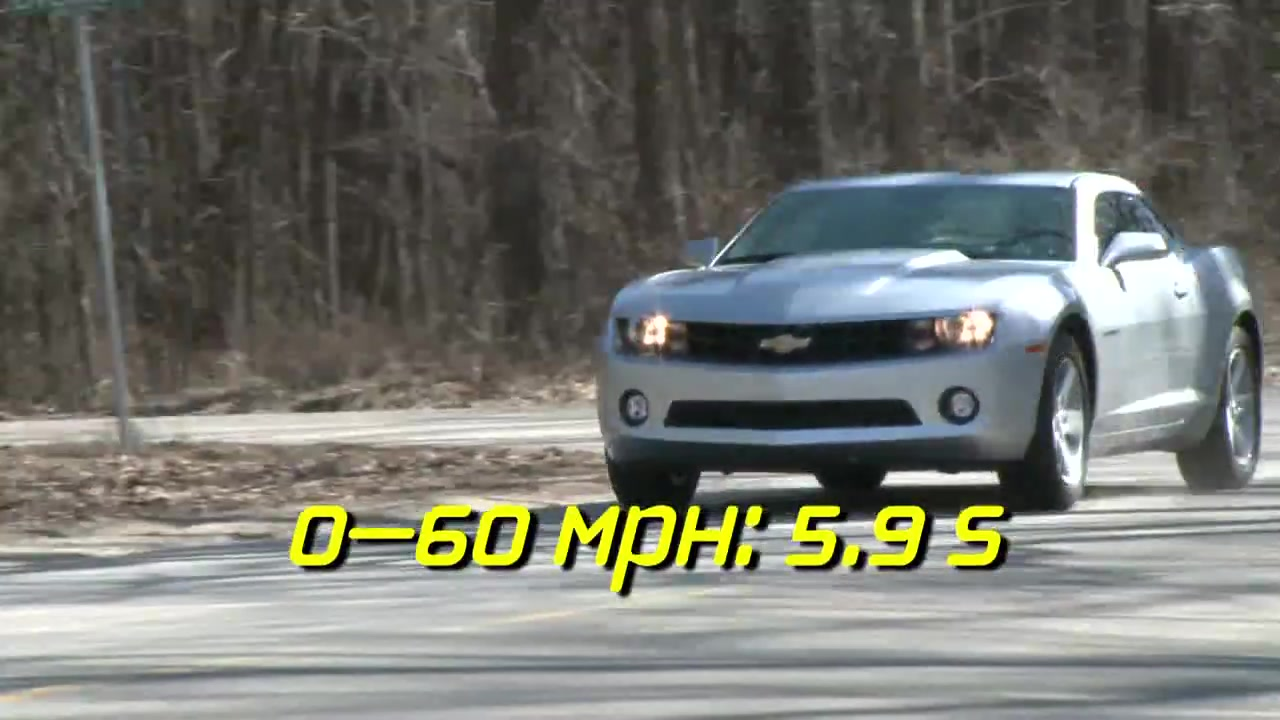car: (596, 171, 1263, 511)
